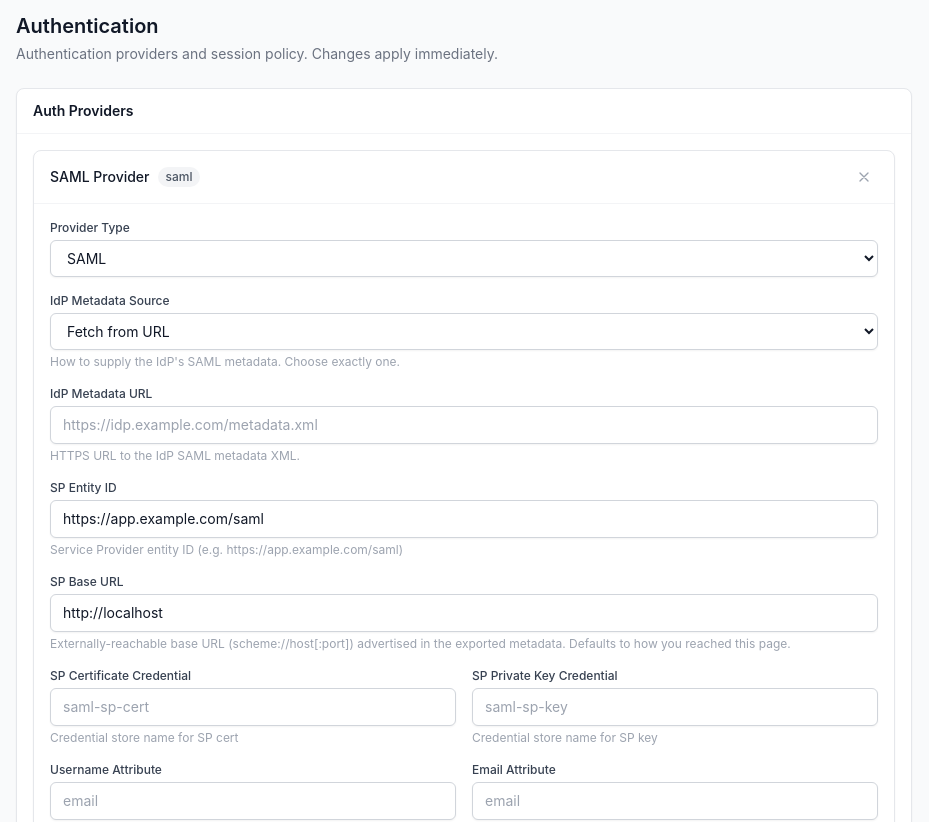
Scenario: AdminAuthPage › switches IdP metadata source to paste XML
Select "Paste XML" in the dropdown showing "Fetch from URL" below "IdP Metadata Source" at point(464, 332), box left=50, top=313, right=878, bottom=350
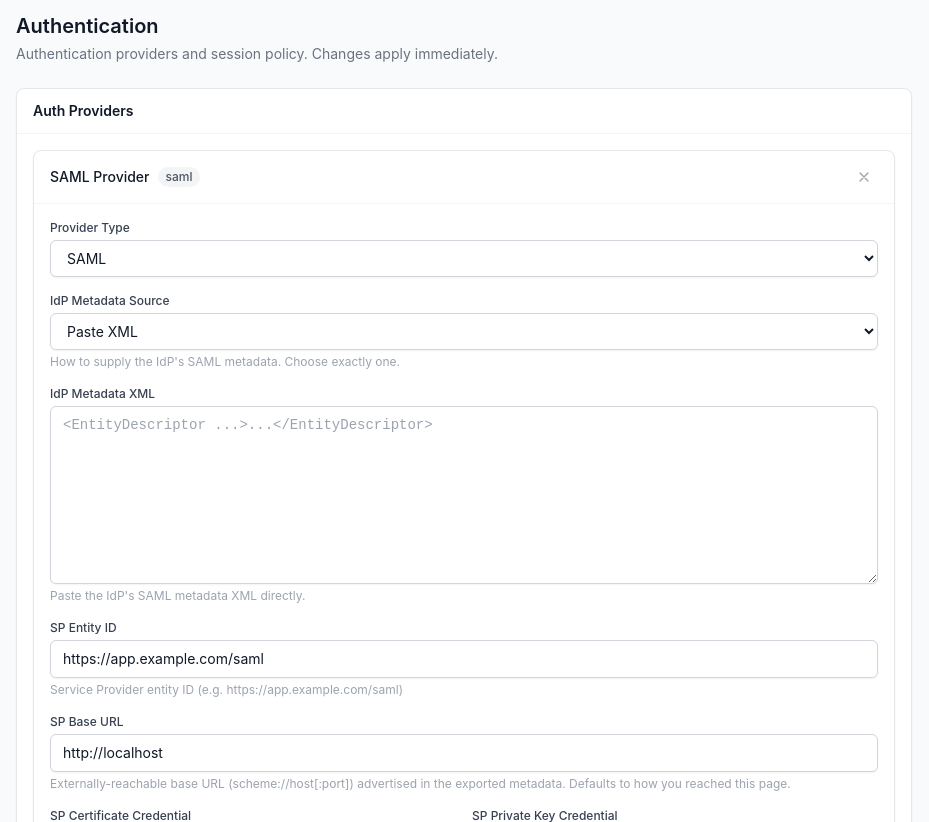
Expected: the field with placeholder "https://idp.example.com/metadata.xml" is not shown
Now the text box with placeholder "<EntityDescriptor ...>...</EntityDescriptor>" is shown, box left=50, top=406, right=878, bottom=584
